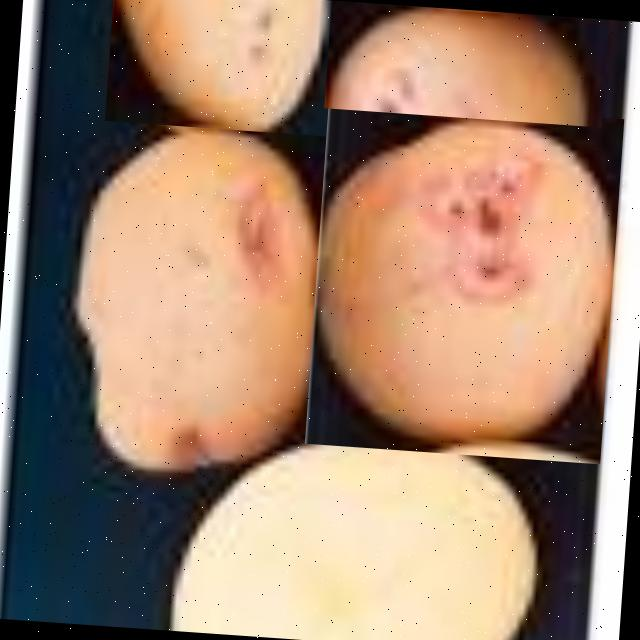Defected potato: (304, 98, 622, 464), (56, 109, 337, 486)
Potato: (322, 0, 608, 127), (103, 0, 334, 136)
